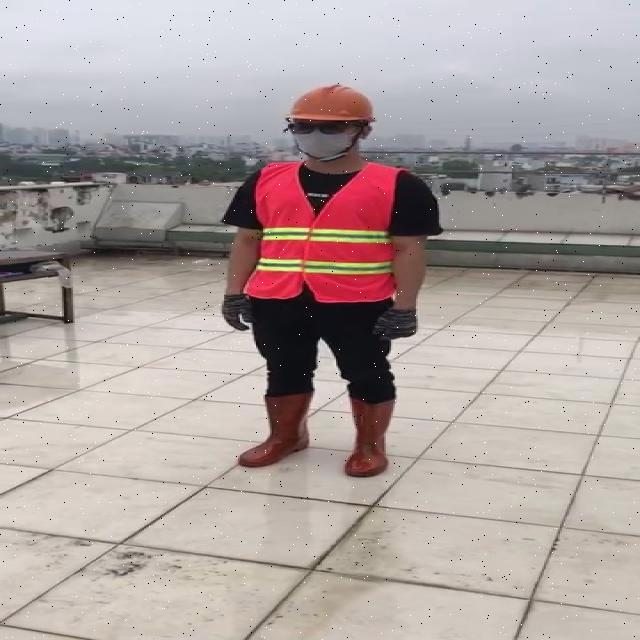Hard_hat: (280, 81, 383, 132)
Vest: (252, 156, 398, 302)
